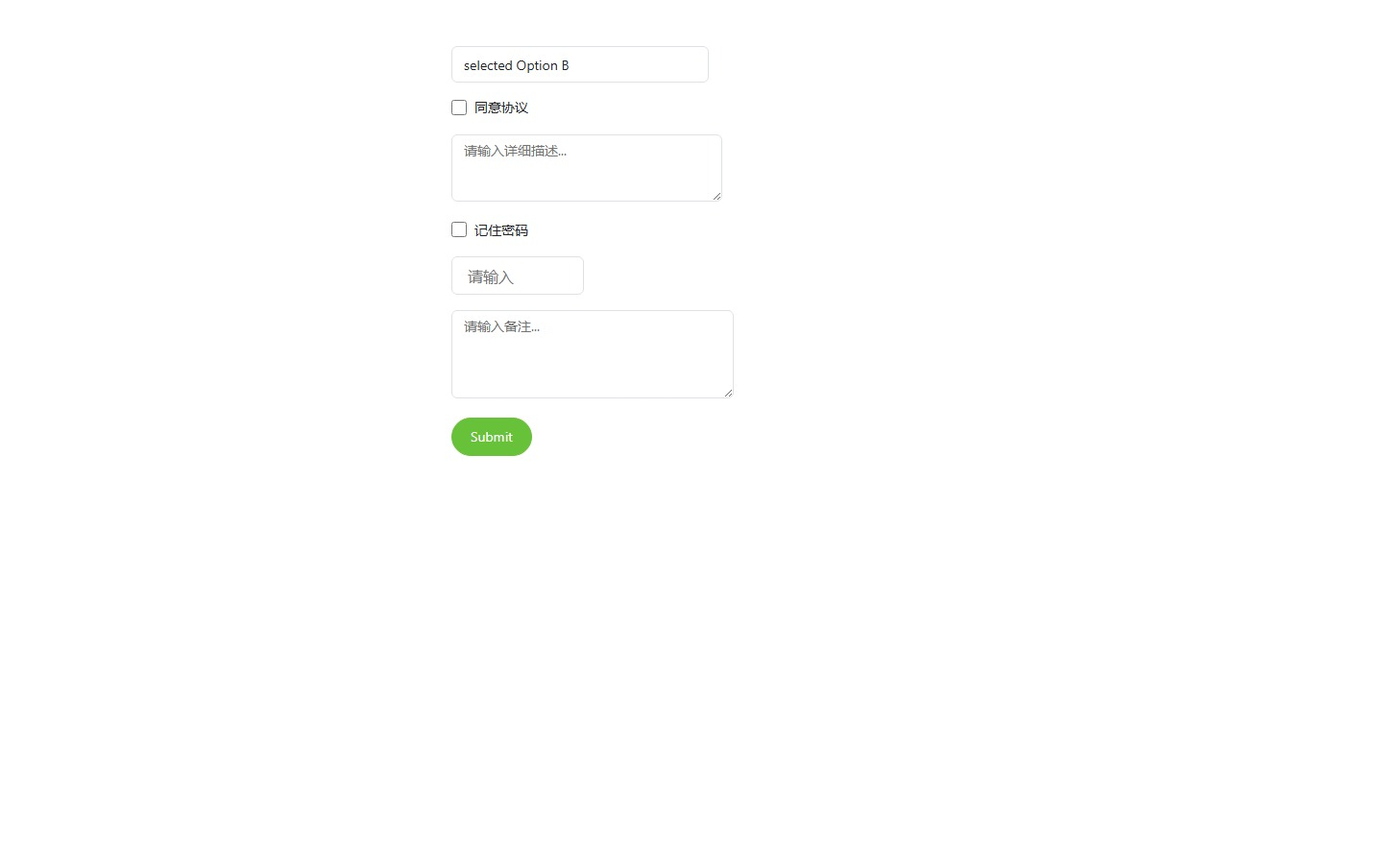button: (451, 418, 532, 456)
checkbox: (451, 99, 467, 115), (451, 222, 467, 237)
icon: (474, 220, 528, 239), (474, 98, 528, 116)
input: (451, 256, 584, 295)
radio: (451, 220, 528, 239), (451, 98, 528, 116)
select: (451, 46, 709, 83)
textarea: (451, 310, 734, 398), (451, 134, 722, 201)
